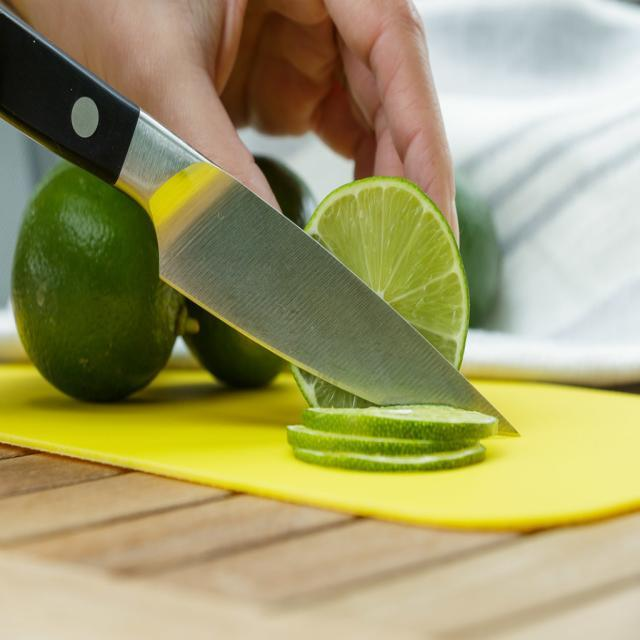Knife: (0, 0, 523, 441)
